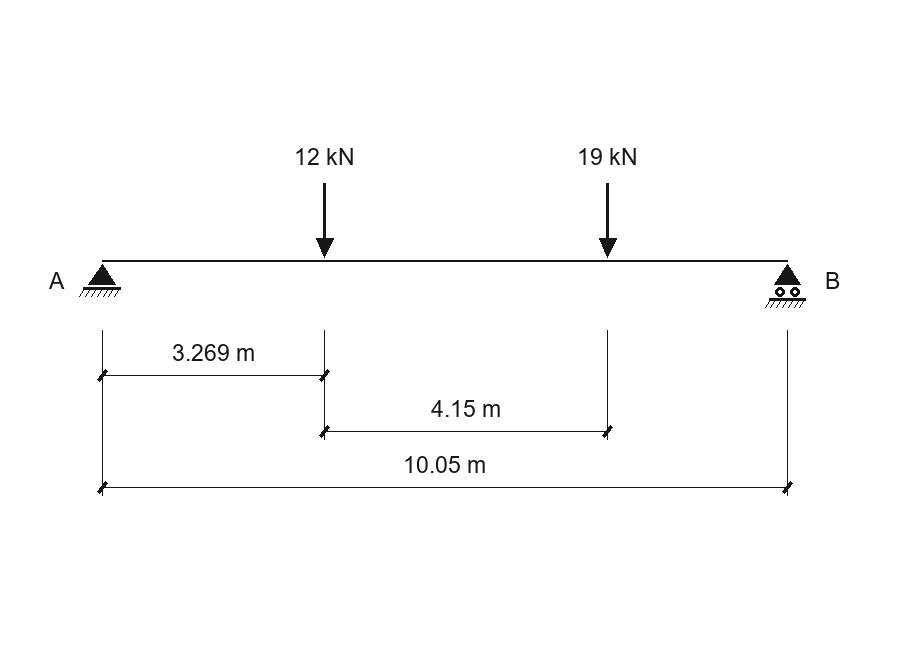pin_support: (79, 264, 121, 297)
point_load: (316, 183, 334, 258), (599, 183, 617, 258)
roller_support: (765, 264, 806, 308)
